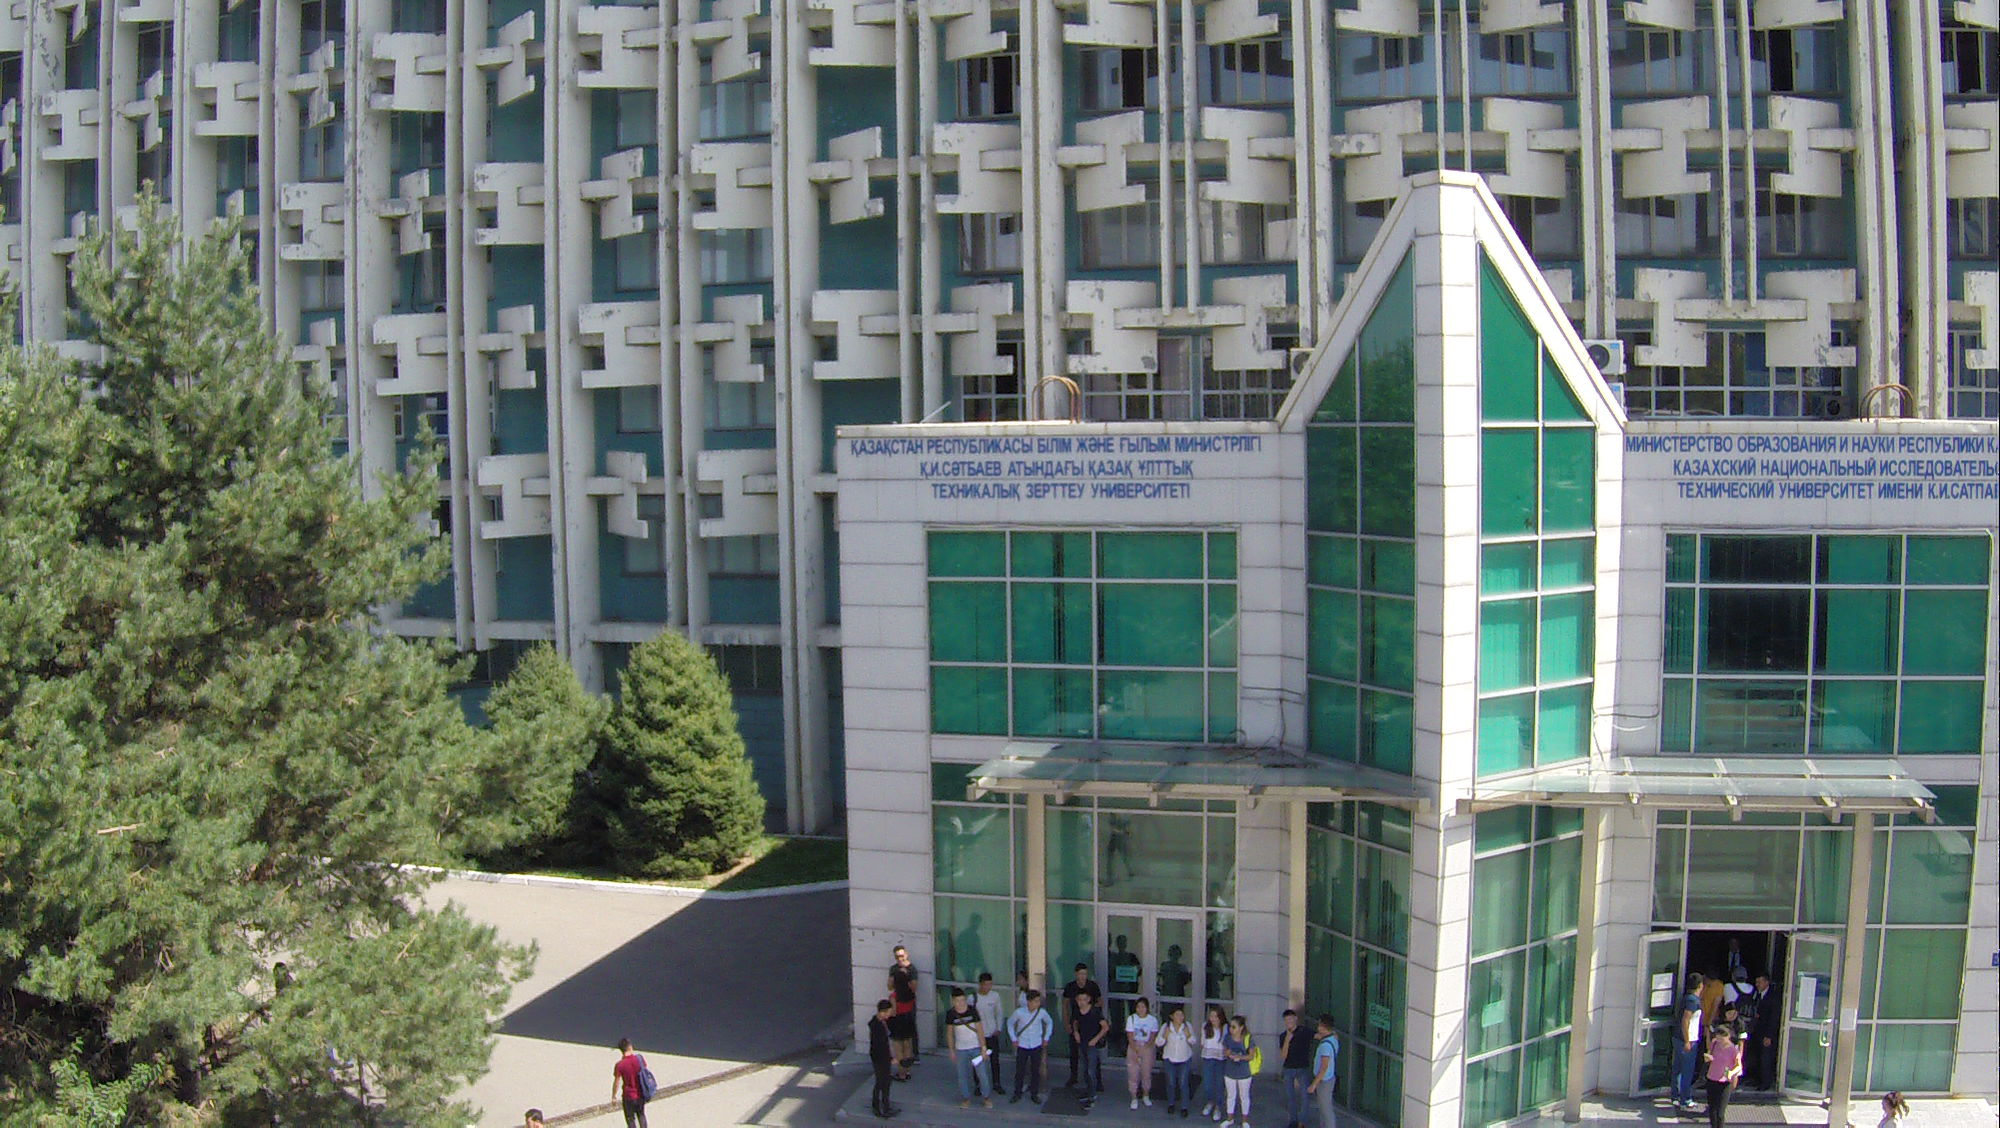person: (1665, 974, 1705, 1110), (950, 996, 990, 1109), (1070, 993, 1106, 1115), (1011, 992, 1049, 1104), (1310, 1013, 1347, 1128), (969, 975, 1000, 1092), (1702, 1030, 1738, 1128), (1280, 1009, 1308, 1128), (1227, 1017, 1256, 1128), (869, 1007, 899, 1117), (1167, 1010, 1195, 1119), (889, 975, 915, 1083), (1131, 1004, 1152, 1109), (1205, 1012, 1225, 1118)
